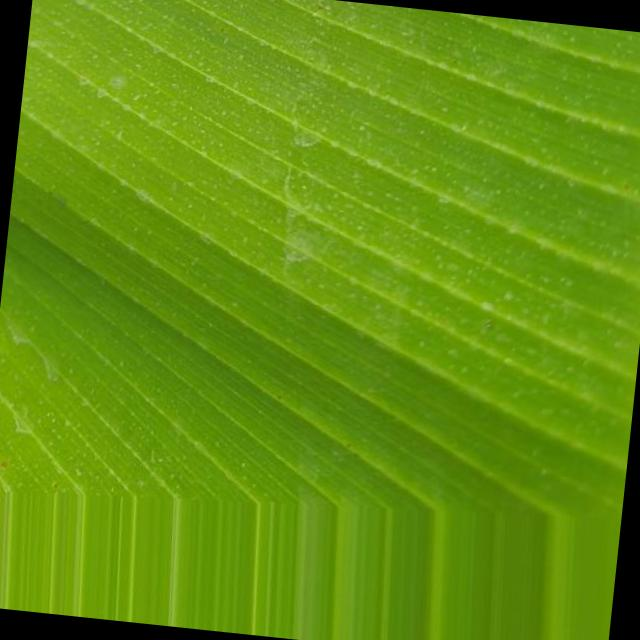Banana_Healthy: (66, 34, 574, 510)
